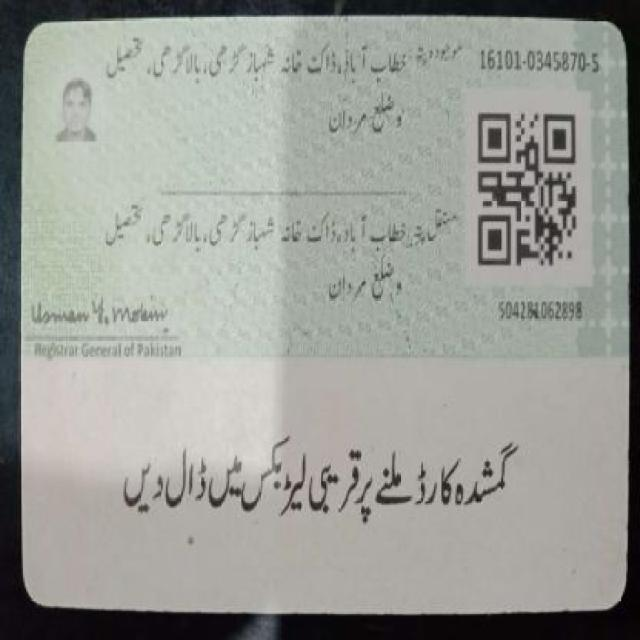Back: (15, 12, 628, 616)
